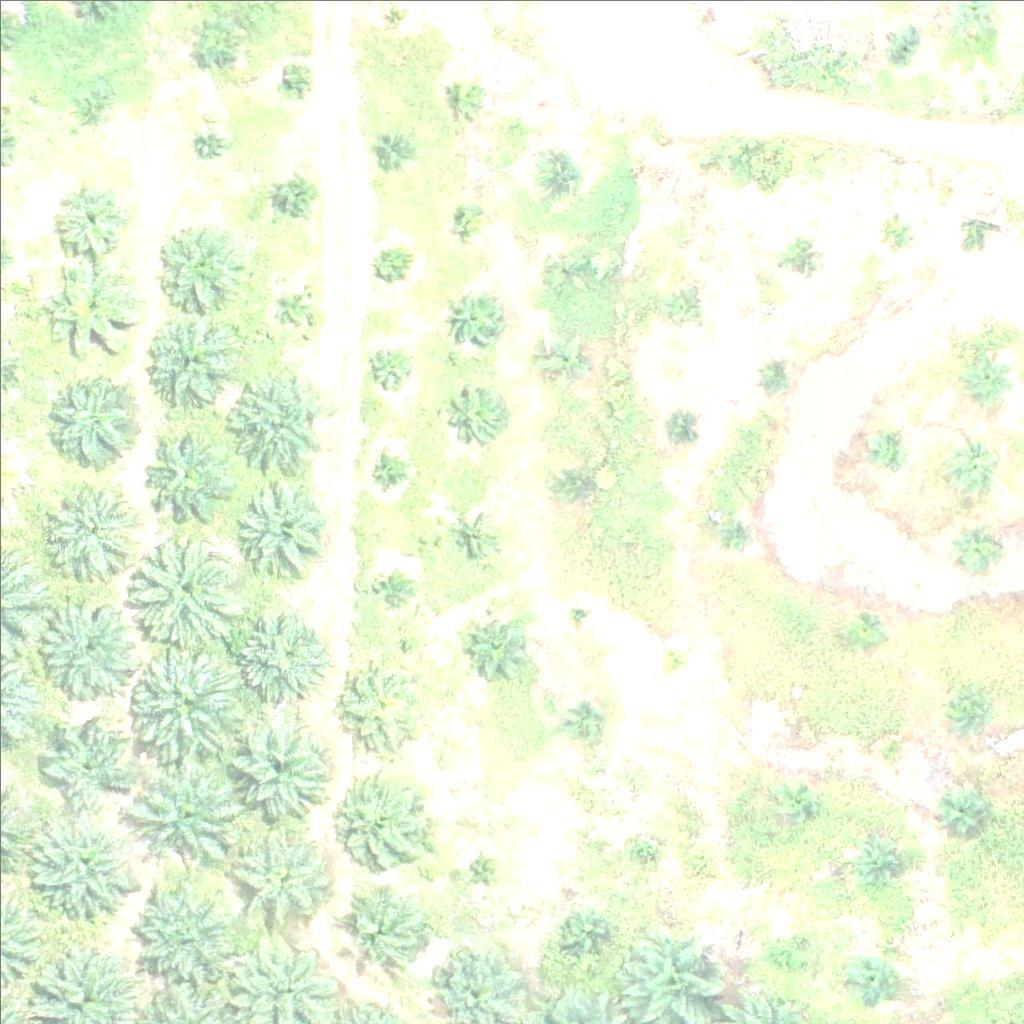Kelapa_Sawit: (125, 639, 250, 764), (125, 520, 250, 645), (25, 805, 138, 918), (128, 874, 241, 987), (131, 756, 244, 869), (35, 705, 135, 806), (40, 596, 140, 697), (237, 835, 337, 936), (226, 718, 326, 819), (229, 599, 329, 700), (232, 471, 332, 572), (334, 880, 434, 981), (332, 774, 432, 875), (327, 653, 427, 754), (42, 261, 142, 362), (224, 369, 324, 470), (41, 479, 129, 568), (47, 173, 135, 261), (156, 224, 244, 312), (144, 316, 232, 404), (137, 429, 225, 517), (48, 384, 135, 472), (469, 610, 532, 673), (443, 283, 505, 346), (941, 779, 991, 830), (951, 521, 1001, 572), (563, 908, 613, 959), (452, 392, 502, 443), (439, 68, 489, 119), (536, 335, 586, 386), (946, 438, 996, 488), (960, 352, 1010, 402), (63, 83, 113, 133), (190, 13, 240, 63), (271, 173, 321, 223), (268, 282, 318, 332), (363, 346, 413, 396), (857, 835, 907, 885), (844, 958, 894, 1008), (558, 463, 596, 501), (766, 935, 804, 973), (775, 784, 813, 822), (623, 828, 661, 866), (461, 847, 499, 885), (655, 638, 693, 676), (364, 569, 402, 607), (885, 24, 923, 62), (866, 426, 903, 464), (448, 197, 486, 234), (371, 452, 408, 490), (453, 519, 490, 557), (658, 409, 696, 446), (783, 233, 820, 271), (541, 251, 579, 288), (369, 248, 406, 286), (572, 699, 609, 737), (875, 738, 912, 776), (879, 209, 916, 247), (949, 689, 986, 726), (373, 125, 410, 162), (541, 153, 578, 190), (761, 361, 798, 398), (664, 283, 701, 320), (844, 616, 881, 653), (713, 518, 750, 555), (968, 215, 993, 241), (284, 67, 309, 92), (565, 602, 590, 627), (197, 131, 221, 156)
